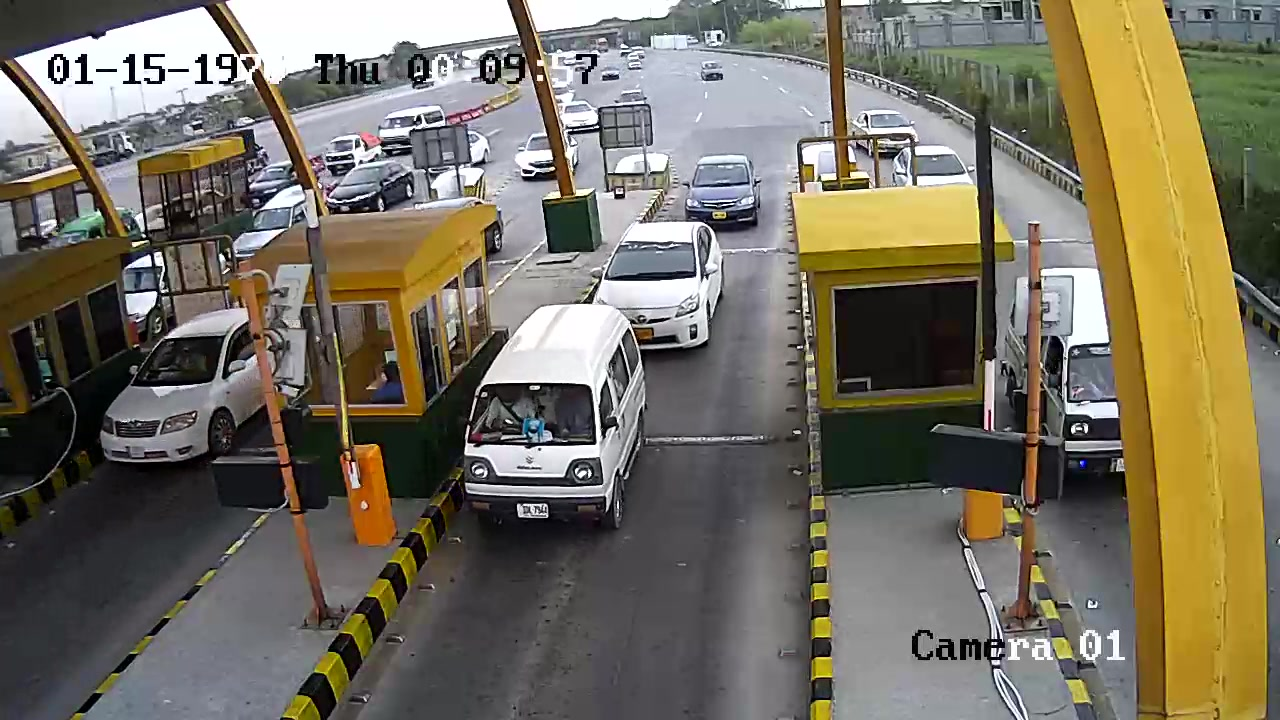F1: (453, 306, 654, 536), (580, 219, 730, 354)
